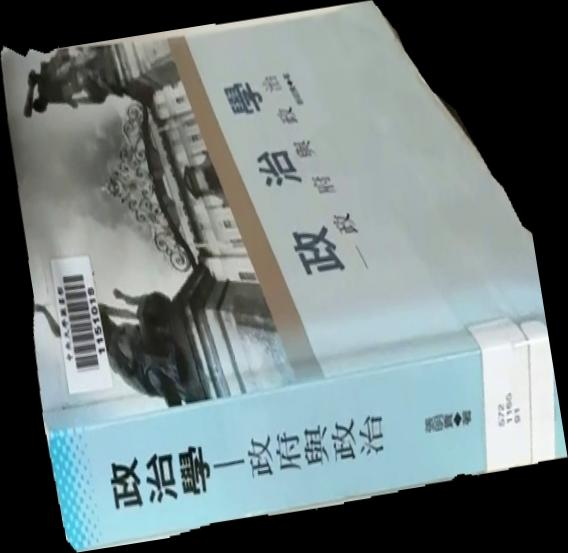flat: (1, 1, 568, 553)
